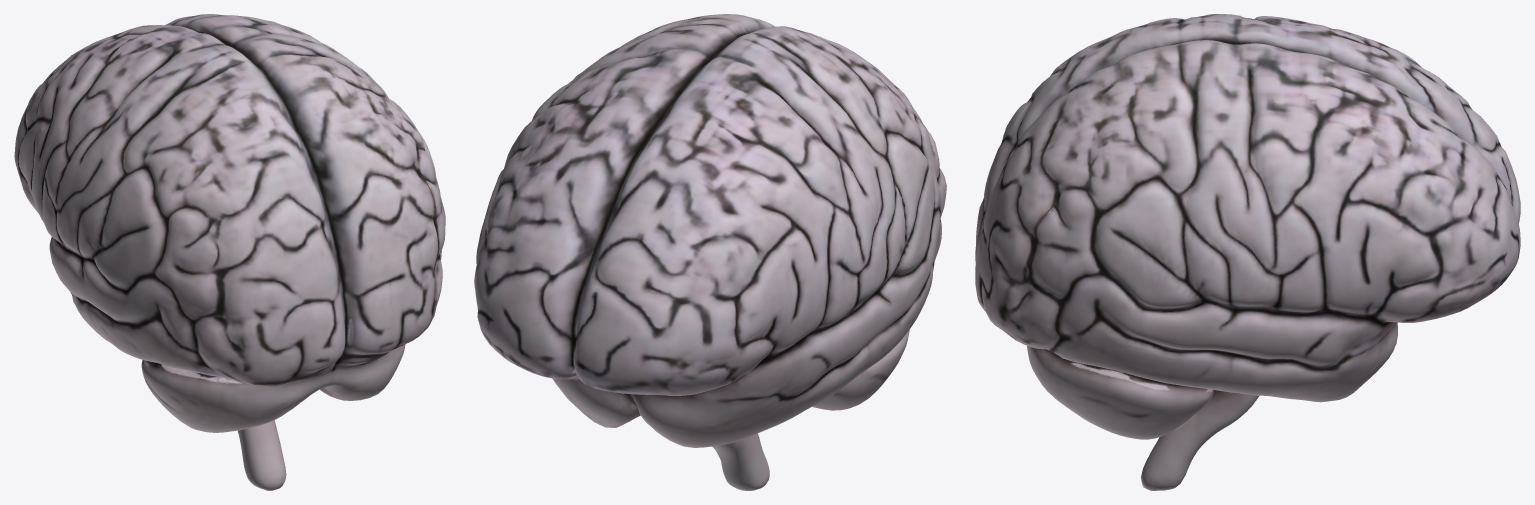
Rendered from brain.glb.
The picture shows the model from 3 angles, left to right: view 1: azimuth 30°, elevation 25°; view 2: azimuth 150°, elevation 25°; view 3: azimuth 270°, elevation 25°; orthographic projection. The views are drawn at different scales.
Visible parts, largest first — view 1: mesh; view 2: mesh; view 3: mesh.
Boxes of the visible parts, bbox=[...] form: mesh: bbox=[14, 14, 445, 490]; mesh: bbox=[474, 14, 946, 490]; mesh: bbox=[975, 14, 1520, 490].
Bounding box in the file's own units: 0.723 × 0.9178 × 0.9994.
Materials: 1 (1 with a texture image).
